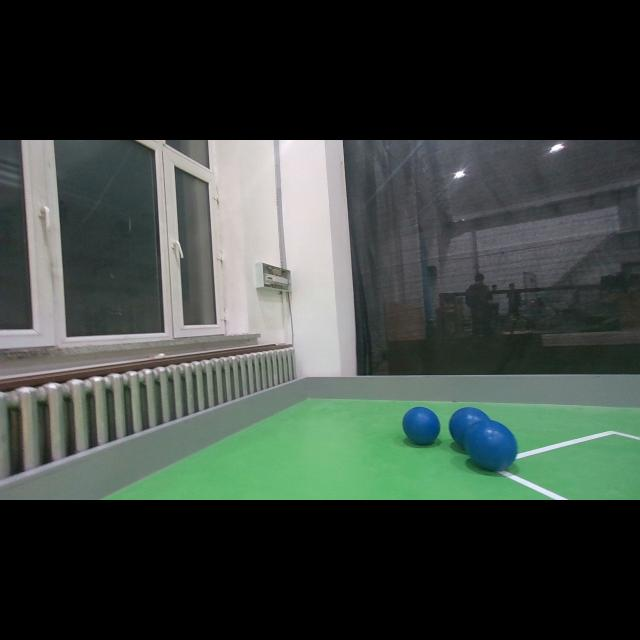B: (462, 420, 518, 470), (448, 407, 492, 451), (402, 406, 440, 446)
